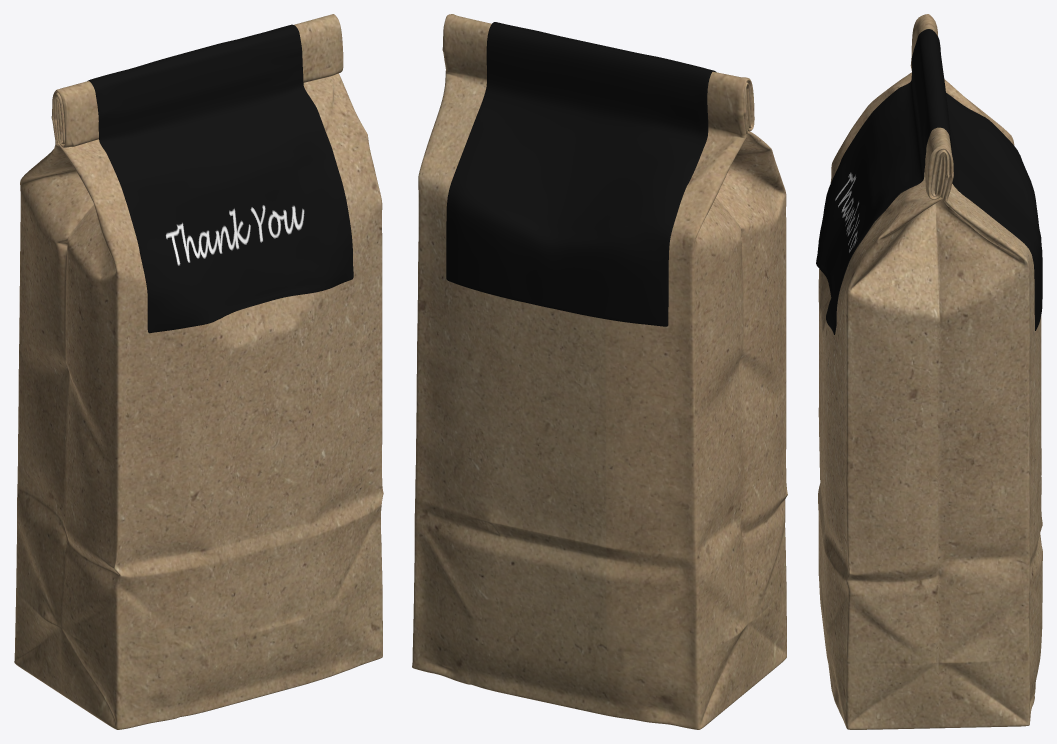
Rendered from packet.glb.
The picture shows the model from 3 angles, left to right: view 1: azimuth 30°, elevation 25°; view 2: azimuth 150°, elevation 25°; view 3: azimuth 270°, elevation 25°; orthographic projection. The views are drawn at different scales.
Visible parts, largest first — view 1: Coffe_Package_Type_B002 (×2); view 2: Coffe_Package_Type_B002 (×2); view 3: Coffe_Package_Type_B002 (×2).
Boxes of the visible parts, x1,y1,x2,y2 form: Coffe_Package_Type_B002 (×2): [14, 14, 383, 729]; Coffe_Package_Type_B002 (×2): [412, 14, 787, 729]; Coffe_Package_Type_B002 (×2): [816, 14, 1042, 729].
Bounding box in the file's own units: 0.1063 × 0.2125 × 0.0747.
2 materials, 2 textured.
